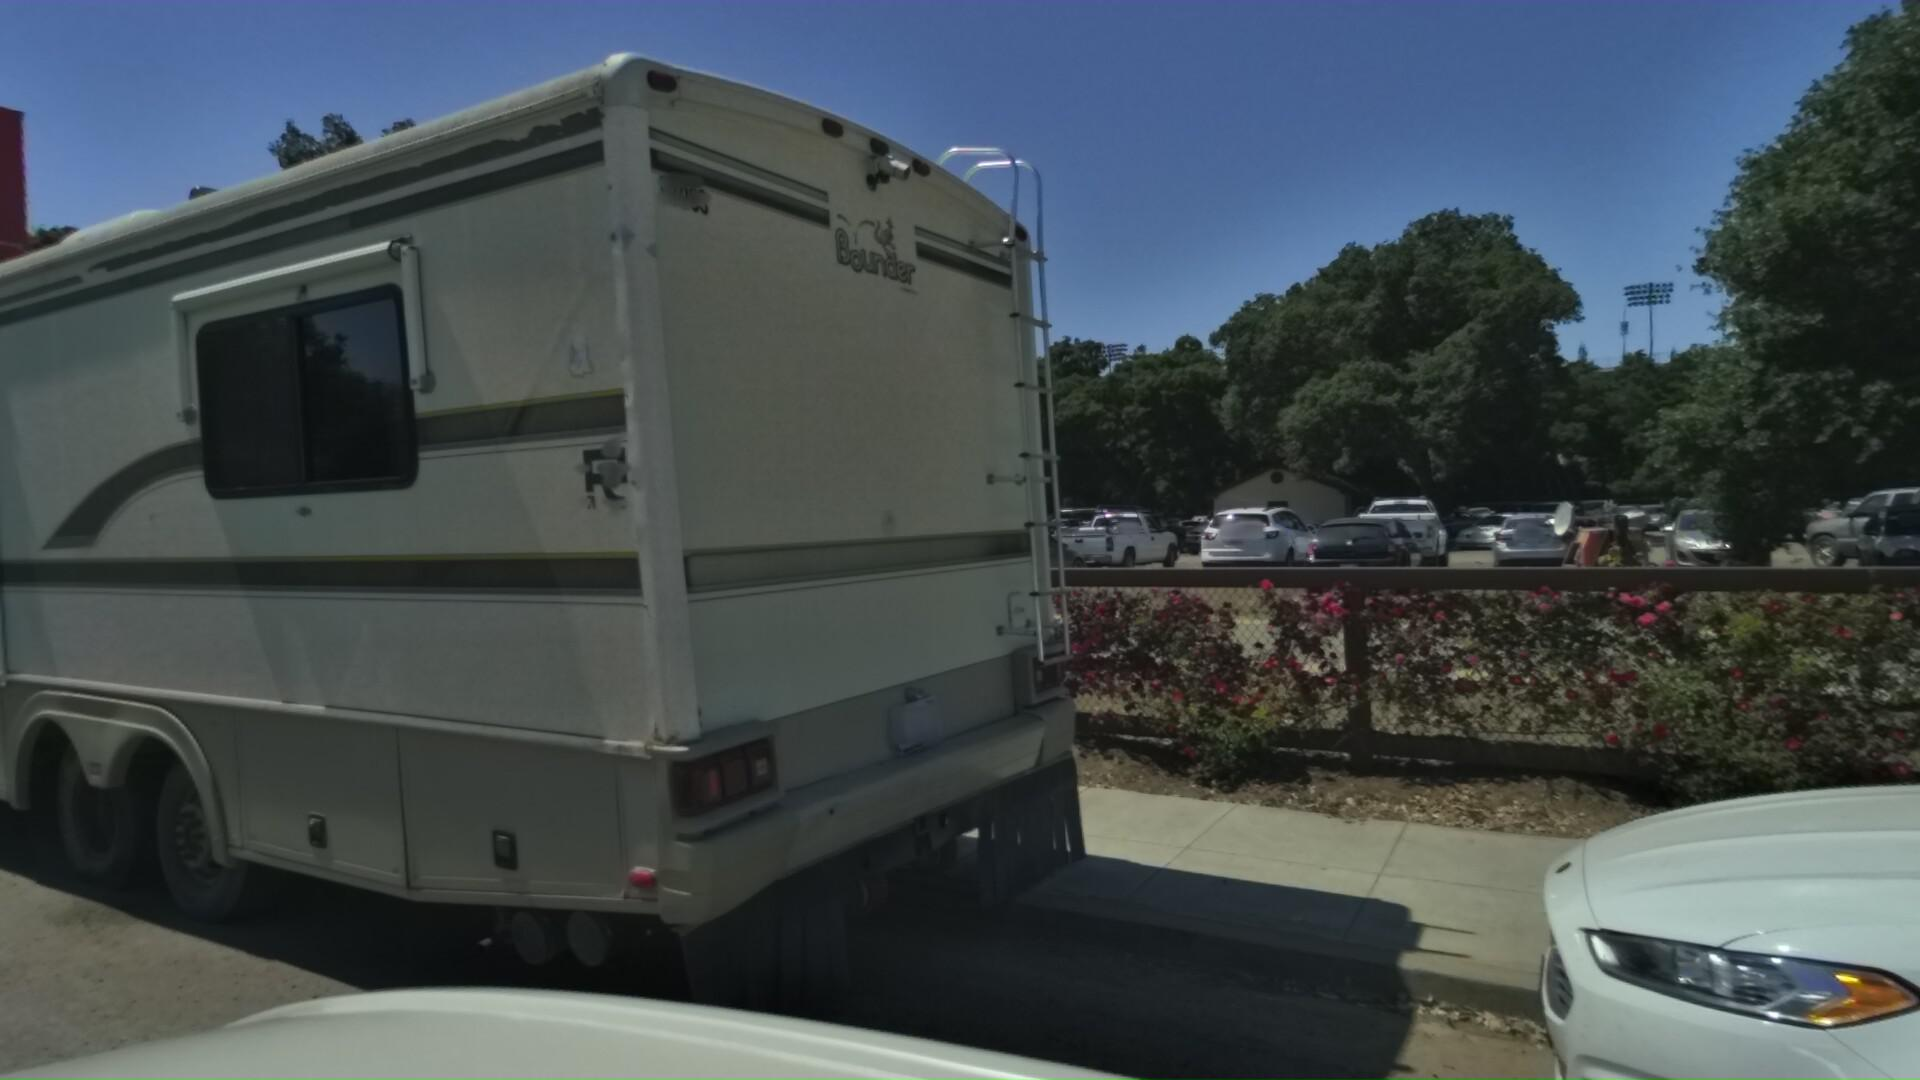other_vehicle: (0, 0, 1240, 1080)
